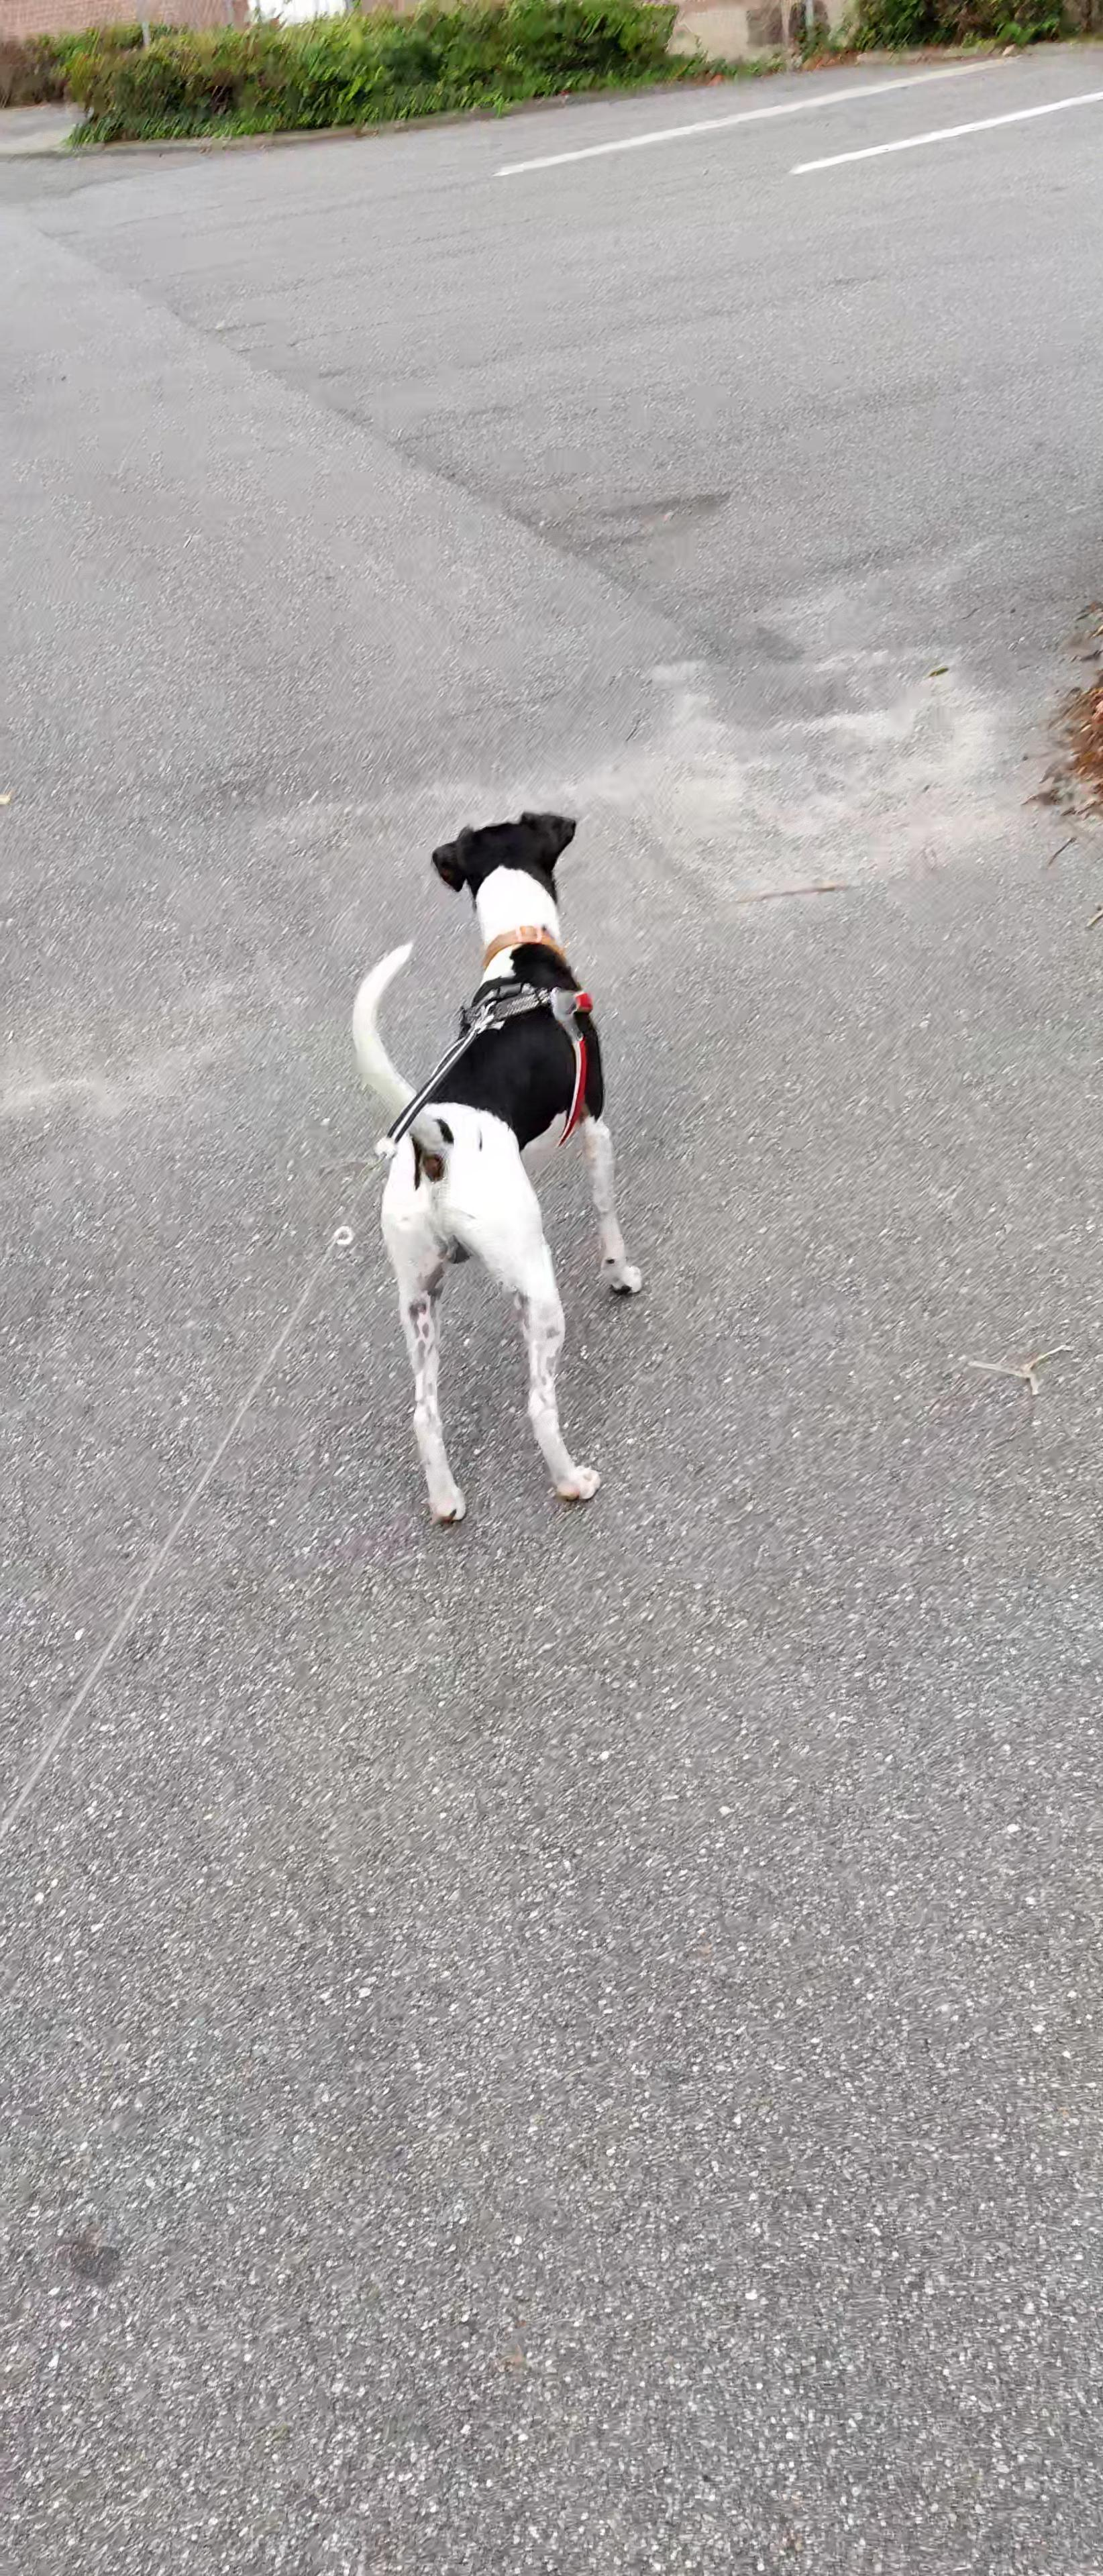Dog: (330, 793, 672, 1552)
